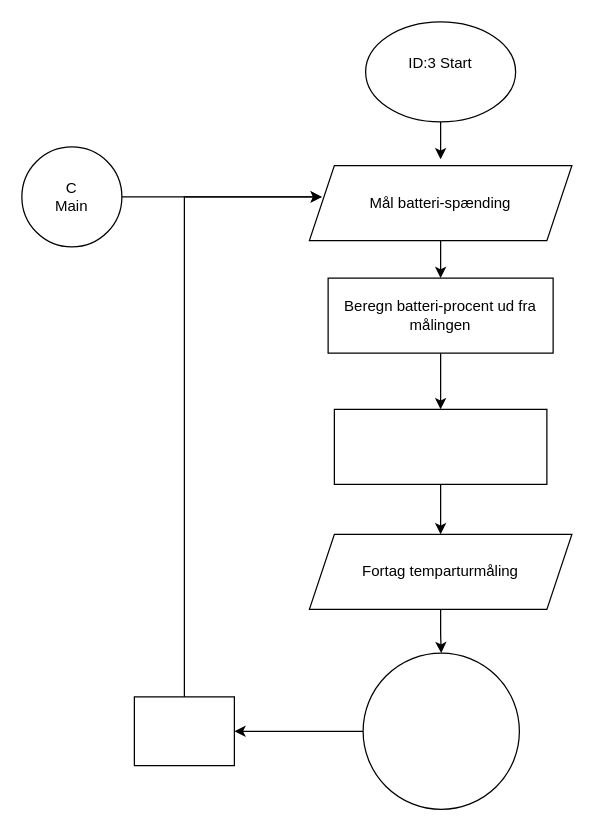
This 594x831 diagram has some shape labels left out. Here are the shapes that lost their labels. From the top down, the centre of each, then its label:
At point 440,446: "Kontakt og beregn GPS Placering, Retning og hastighed".
At point 183,731: "Vent lidt tid".
At point 440,730: "Opdater Thingsboard med alt data".
